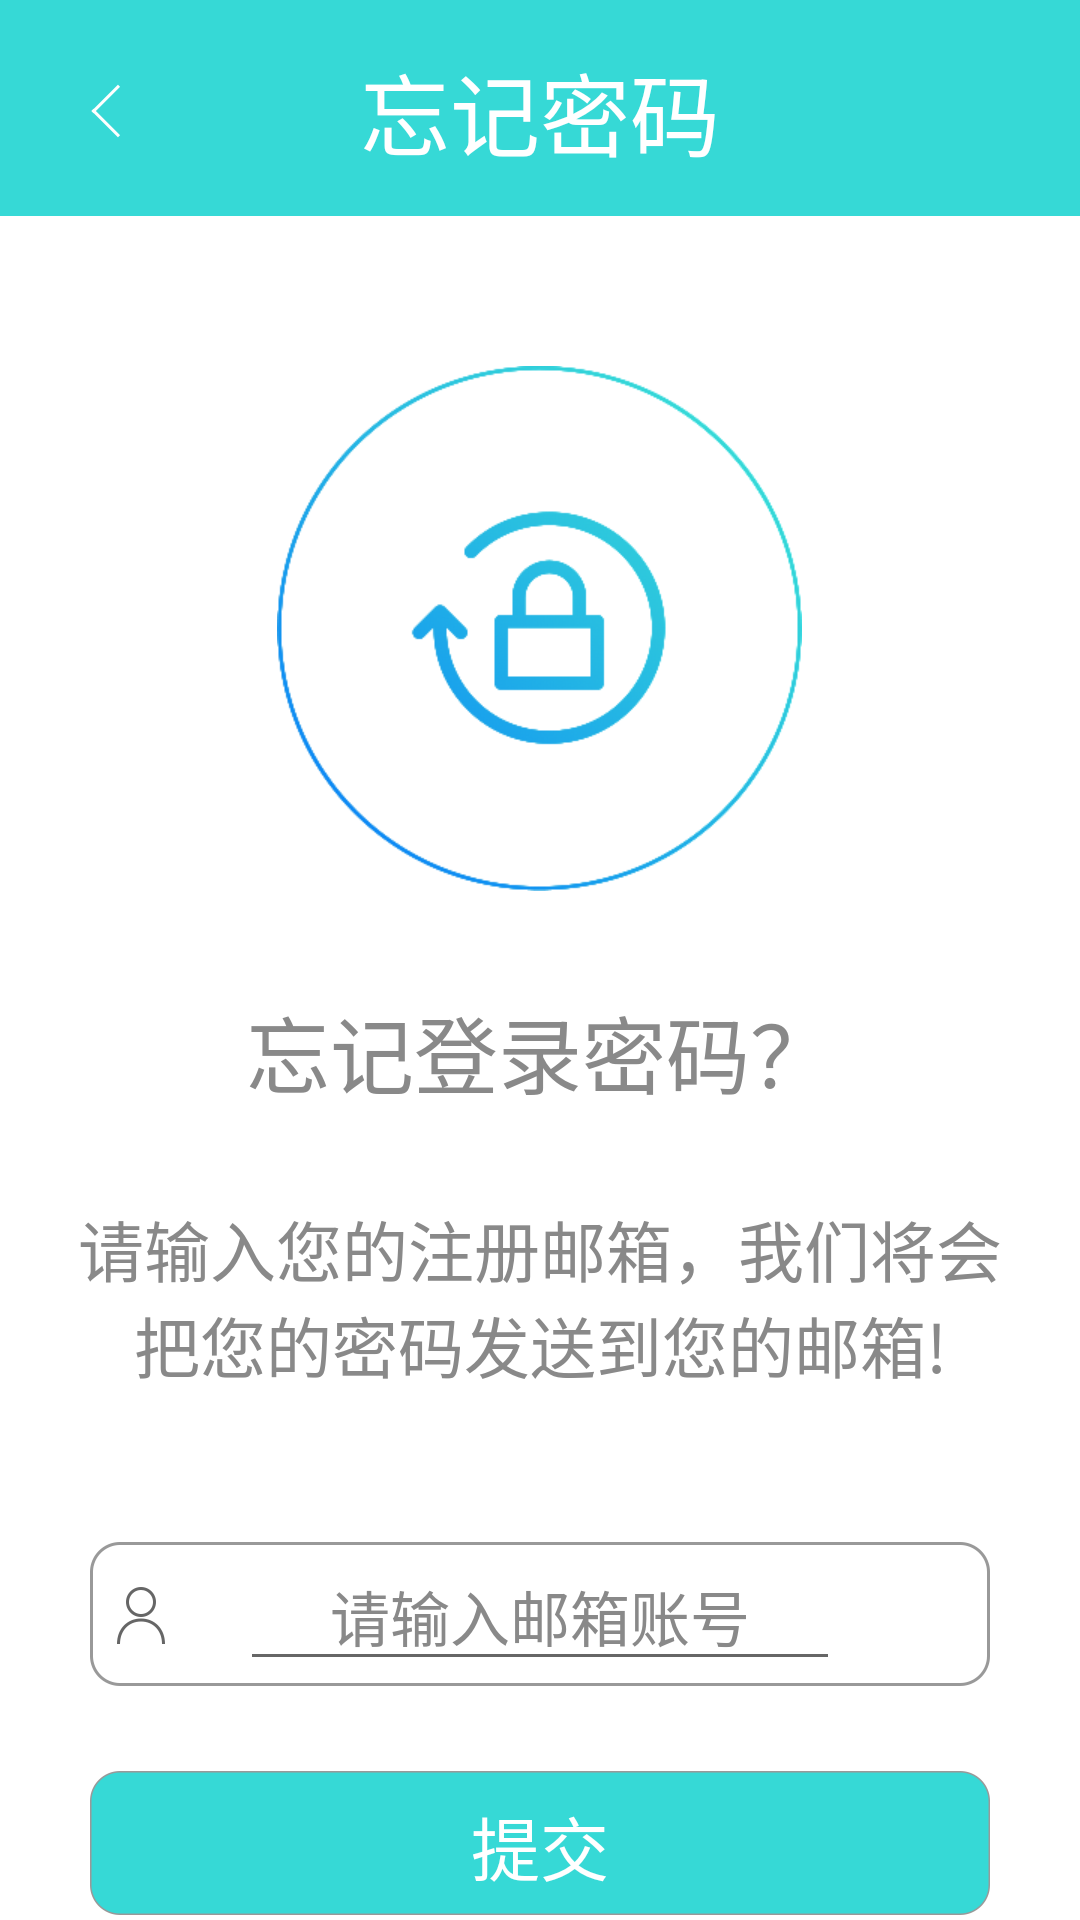

Icons on this 1080px×1920px Android screen, each with the point to tap as (x=x, y=y):
return: (x=105, y=111)
